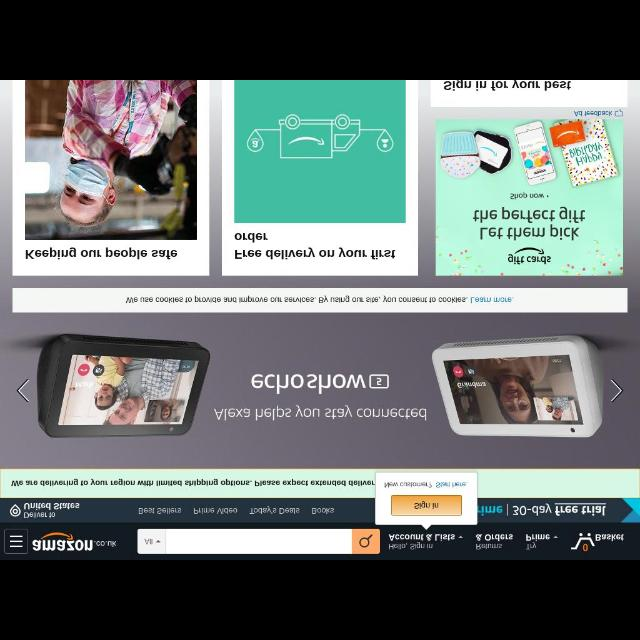backgroundimage: (1, 81, 640, 468)
button: (354, 528, 380, 554), (5, 528, 28, 554)
icon: (572, 532, 594, 550), (16, 378, 29, 402), (611, 378, 623, 402), (11, 532, 23, 548), (360, 534, 372, 548), (10, 504, 20, 516), (615, 110, 623, 116), (458, 535, 464, 539), (554, 534, 558, 540), (156, 540, 160, 544)
image: (436, 120, 624, 276), (25, 81, 197, 239), (236, 81, 406, 223), (249, 374, 389, 394), (31, 532, 117, 552)
input: (168, 530, 352, 552)
multitab: (106, 500, 374, 522)
spinner: (390, 534, 466, 550), (138, 528, 168, 554), (525, 534, 559, 550)
text: (234, 233, 396, 259), (215, 405, 428, 421), (11, 478, 375, 487), (126, 296, 514, 304), (26, 247, 178, 259), (512, 502, 606, 516), (444, 81, 570, 91), (389, 532, 455, 550), (475, 533, 513, 551), (384, 482, 468, 488), (24, 502, 80, 510), (250, 506, 300, 514), (526, 533, 550, 549), (138, 507, 182, 515), (478, 504, 502, 516), (596, 532, 624, 542), (194, 508, 238, 514), (574, 110, 614, 116), (24, 512, 56, 518), (312, 508, 334, 514), (145, 537, 155, 545)
textbutton: (392, 496, 462, 516)
toolbar: (0, 522, 638, 560)
